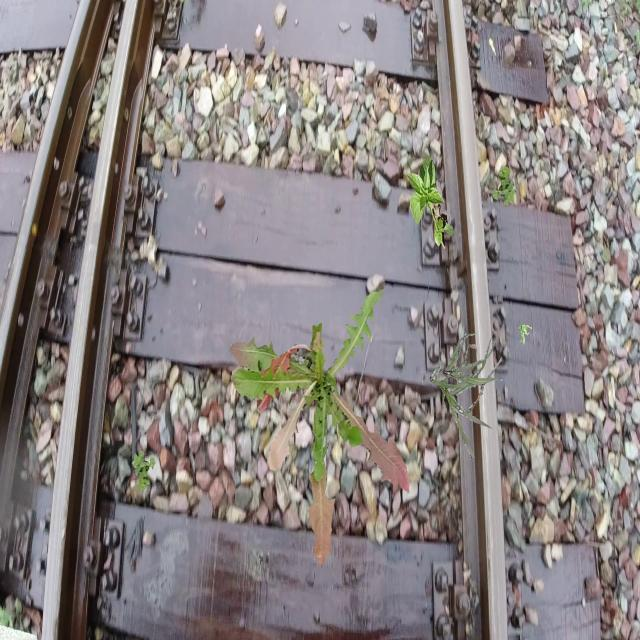Plant: (230, 289, 410, 567), (430, 334, 503, 458), (406, 155, 454, 250), (493, 166, 517, 207), (132, 450, 156, 491), (518, 324, 532, 344)
